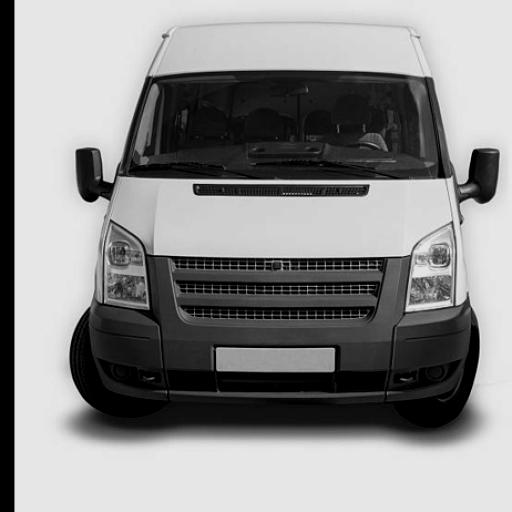van: (72, 22, 499, 424)
